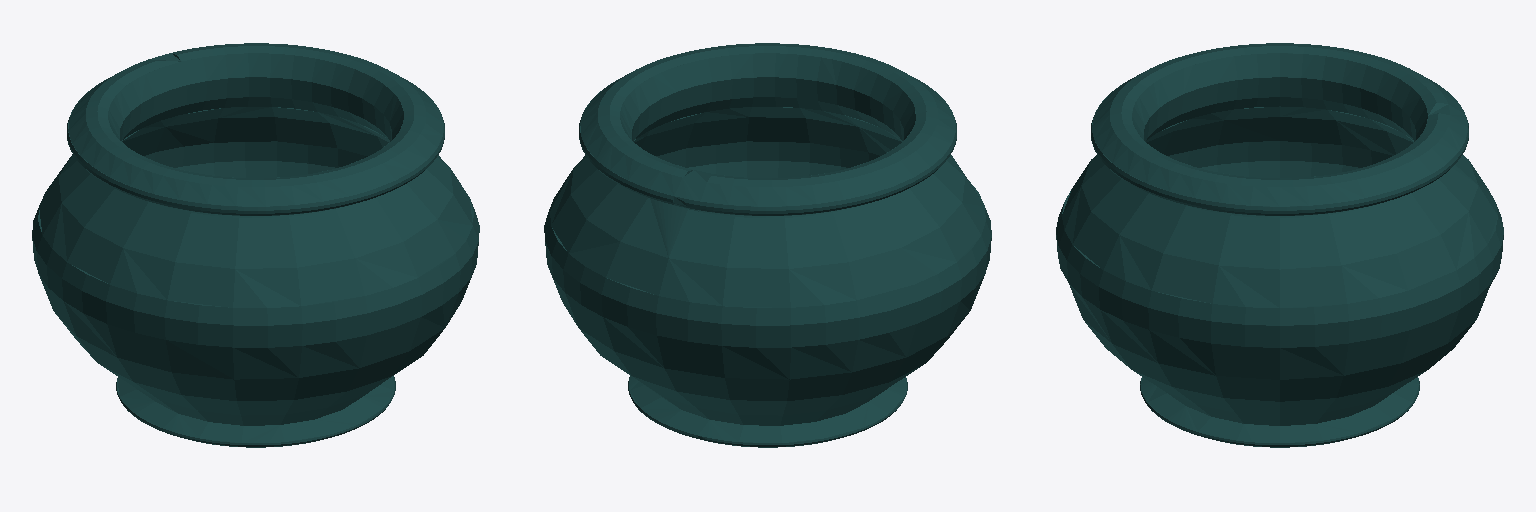
File: FourthTriesTheCharm.obj
3 renders of one model, left to right at view 1: azimuth 30°, elevation 25°; view 2: azimuth 150°, elevation 25°; view 3: azimuth 270°, elevation 25°, orthographic.
Visible parts, largest first — view 1: revolvedSurface1; view 2: revolvedSurface1; view 3: revolvedSurface1.
Boxes of the visible parts, x1=… form: revolvedSurface1: x1=32, y1=43, x2=479, y2=447; revolvedSurface1: x1=544, y1=43, x2=991, y2=447; revolvedSurface1: x1=1056, y1=43, x2=1503, y2=447.
Size of the model in its own units: 17.72 by 12.47 by 17.73.